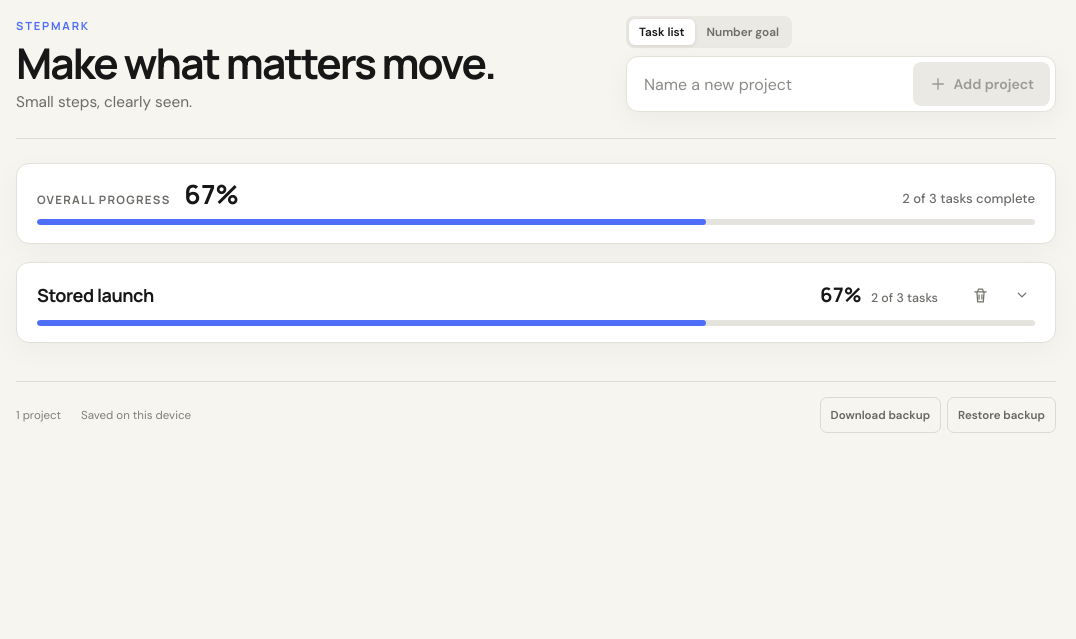
Test case: project overview and disclosure › automatically expands a new project and focuses its task input
Type "Website launch" into the field labelled "Project name".
click(772, 84); type("Website launch")  # box [632,62,913,106]
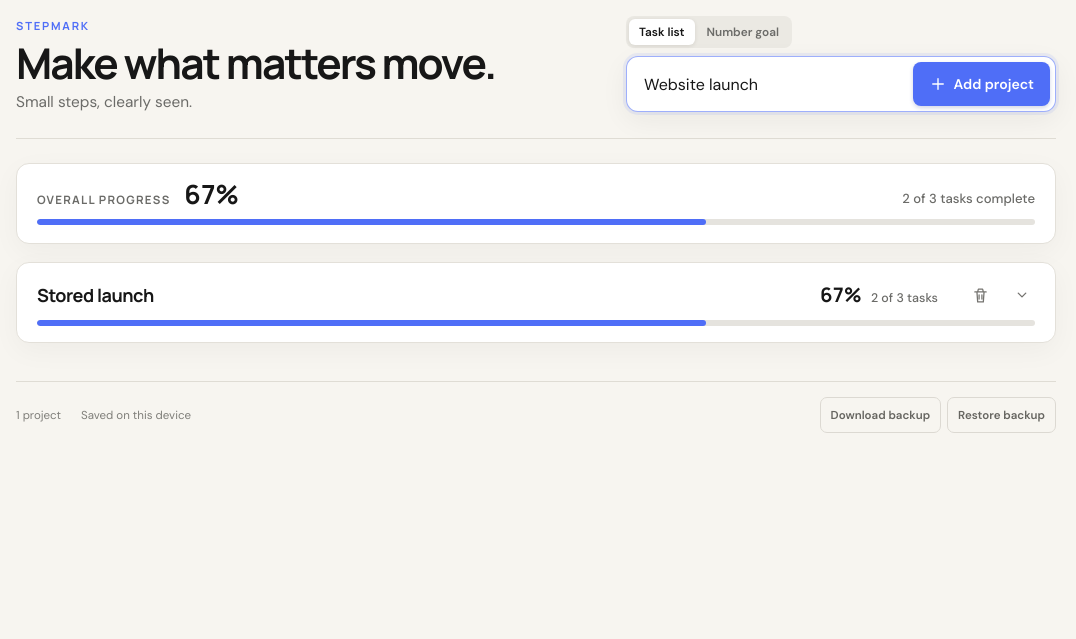
Click the button "Add project".
click(981, 84)  # box [913,62,1050,106]
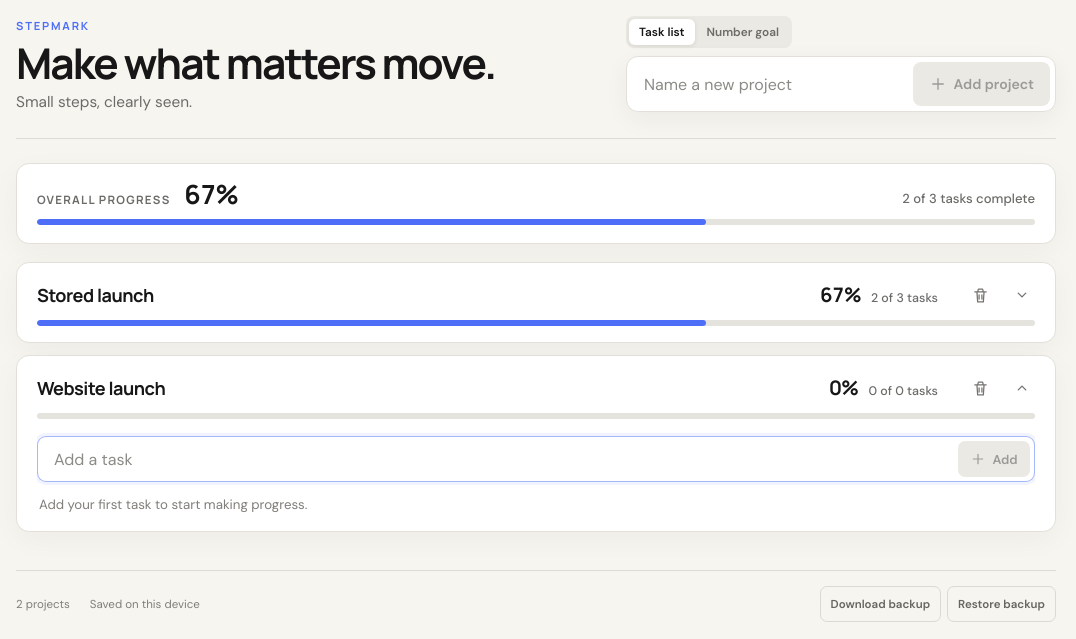
Expected: the button named "Expand Stored launch" is shown, [1002,275,1042,315]
Expected: the button named "Collapse Website launch" is shown, [1002,368,1042,408]
